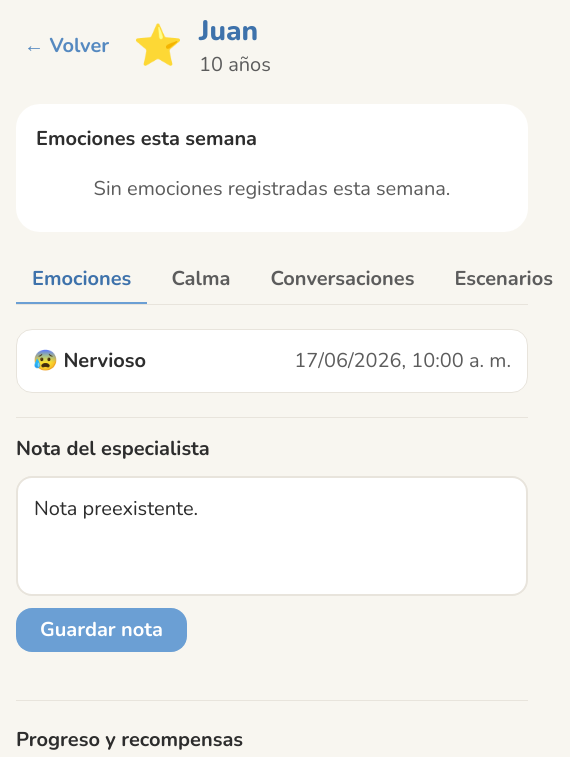
Test: ChildDetail › muestra sesiones de calma
The image size is (570, 757).
Click the button "Calma".
click(201, 280)  # box left=155, top=256, right=246, bottom=304
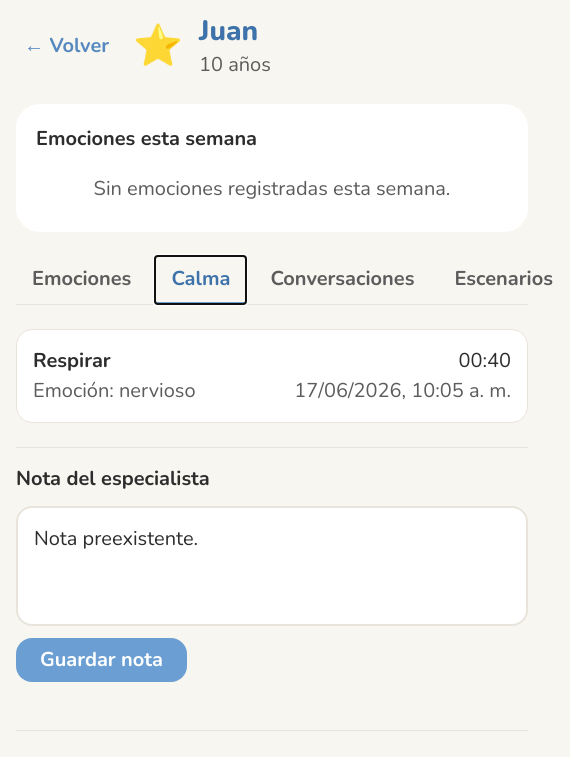
Expected: the text "Respirar" is shown, left=33, top=347, right=111, bottom=374
